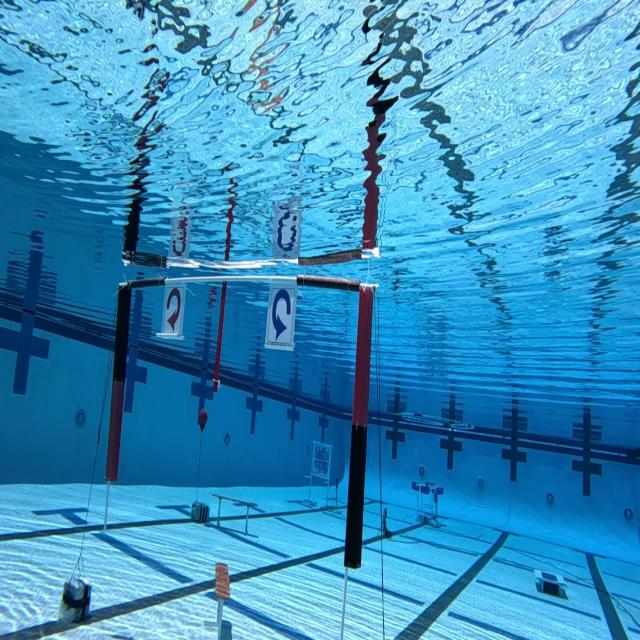blue_side: (266, 286, 296, 350)
red_side: (161, 283, 185, 339)
